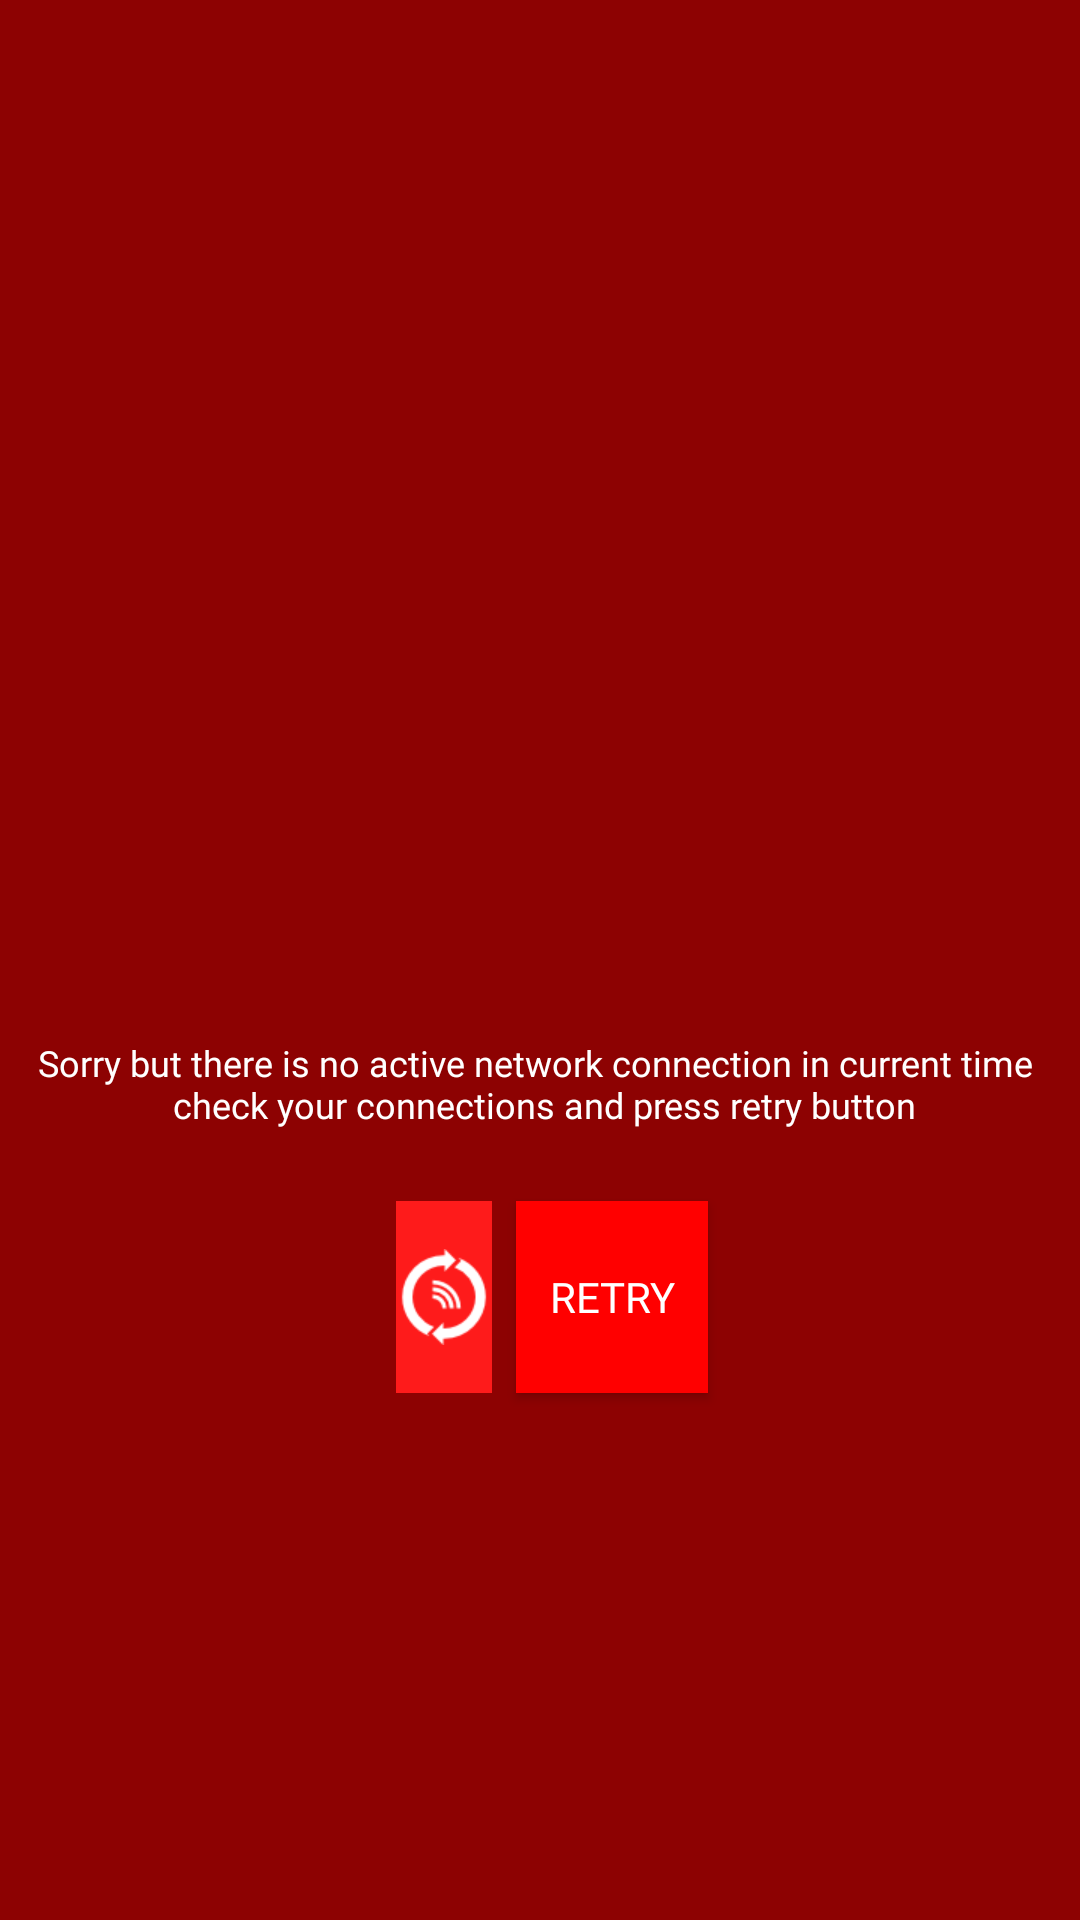

Where to tap for icons on this 1080*1920 app screen, as (x,y):
refresh: (444,1297)
